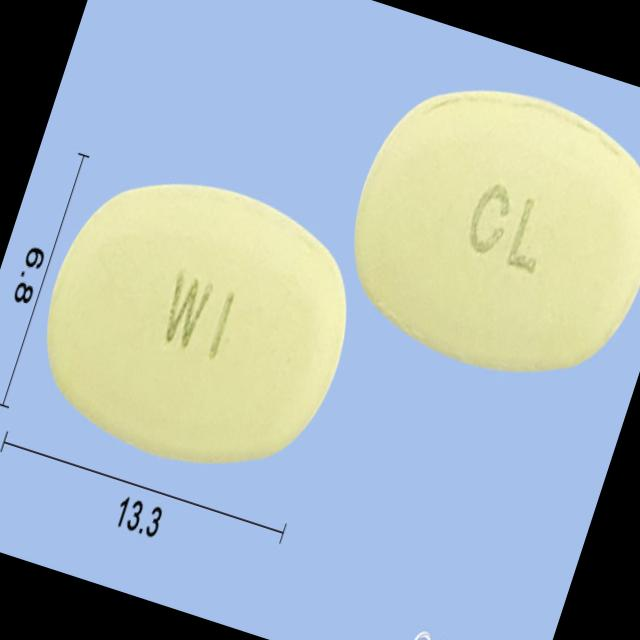Clathron - 500mg: (10, 143, 383, 507), (320, 55, 640, 407)
